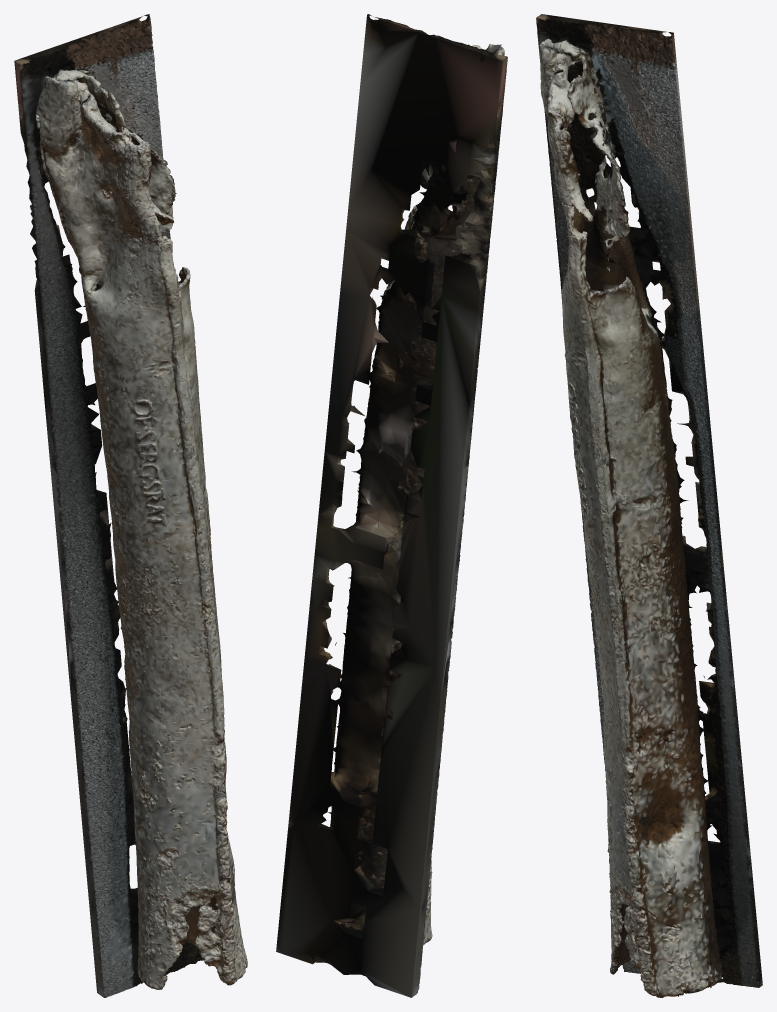
The model's file is MNAT_TV93-145.obj.
3 renders of one model, left to right at view 1: azimuth 30°, elevation 25°; view 2: azimuth 150°, elevation 25°; view 3: azimuth 330°, elevation 25°, orthographic. The views are drawn at different scales.
Parts seen in each view (by area): view 1: default; view 2: default; view 3: default.
Part boxes in pixels (left/top/right/bottom): default: left=14, top=14, right=247, bottom=997; default: left=276, top=14, right=507, bottom=997; default: left=536, top=14, right=762, bottom=997.
Bounding box in the file's own units: 0.3185 × 1.33 × 0.1652.
